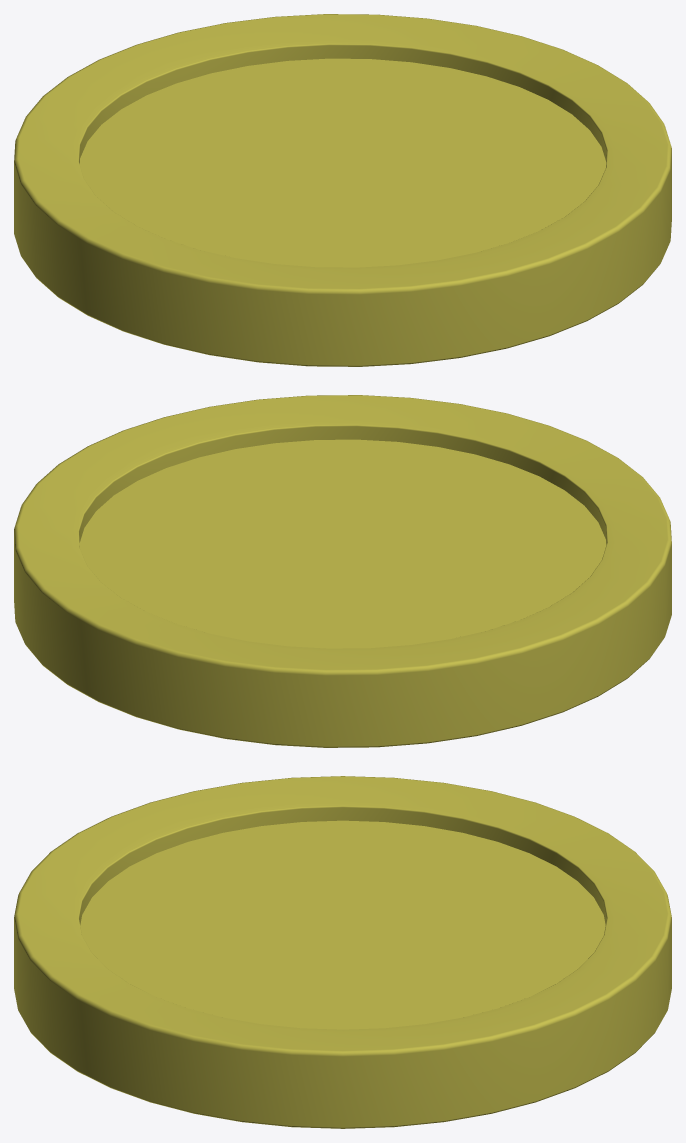
File: Gold_Coin.fbx
3 views of the same model, one above another, from view 1: azimuth 30°, elevation 25°; view 2: azimuth 150°, elevation 25°; view 3: azimuth 270°, elevation 25° (orthographic).
Visible parts, largest first — view 1: Coin; view 2: Coin; view 3: Coin.
Part boxes in pixels (<box>): Coin: <box>14,14,671,366</box>; Coin: <box>14,395,671,747</box>; Coin: <box>14,776,671,1128</box>.
Size of the model in its own units: 5.92 by 0.7659 by 5.92.
